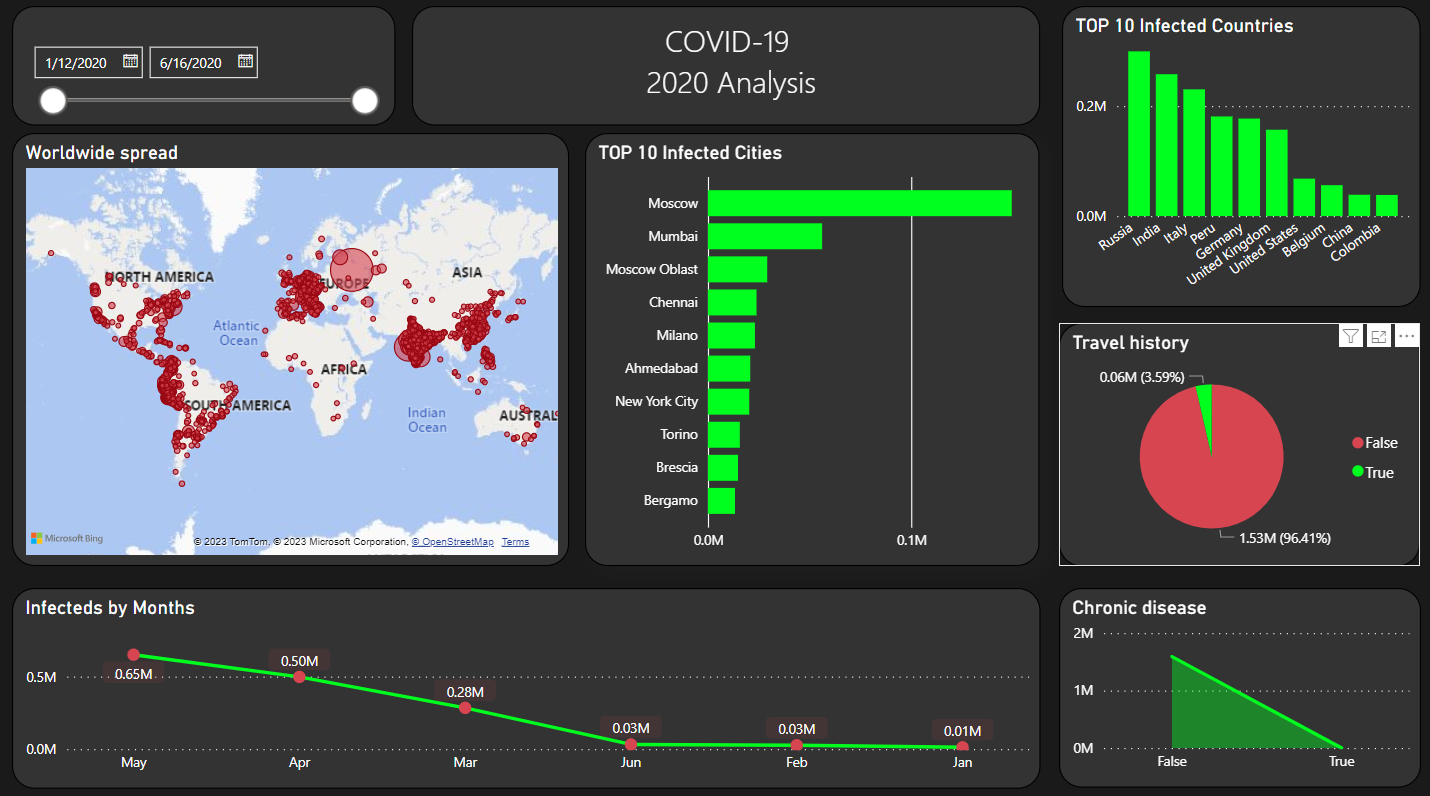

The dashboard page shown, as its layout file describes it:
{"tool":"powerbi","page":{"name":"Dashboard","canvas":[1280,720],"ordinal":0},"visuals":[{"type":"map","title":"Worldwide spread","fields":{"Category":["finaldata.city"],"Size":["finaldata.Measure"]},"box":[16.5,125.4,493.7,383.9],"z":0},{"type":"columnChart","title":"TOP 10 Infected Countries","fields":{"Category":["finaldata.Country"],"Y":["finaldata.TOP 10"]},"box":[947.6,12.6,317.8,267.3],"z":1000},{"type":"lineChart","title":"Infecteds by Months","fields":{"Category":["finaldata.Months"],"Y":["finaldata.Count of Months"]},"box":[16.5,528.7,911.6,177.9],"z":2000},{"type":"slicer","title":"  ","fields":{"Values":["finaldata.date"]},"box":[16.5,12.6,340.2,105.9],"z":3000},{"type":"barChart","title":"TOP 10 Infected Cities","fields":{"Category":["finaldata.city"],"Y":["finaldata.Count Cities"]},"box":[524.8,125.4,403.3,383.9],"z":4000},{"type":"pieChart","title":"Travel history","fields":{"Category":["finaldata.travel_history_binary"],"Y":["CountNonNull(finaldata.travel_history_binary)"]},"box":[945.7,293.5,319.8,215.8],"z":5000},{"type":"areaChart","title":"Chronic disease","fields":{"Category":["finaldata.chronic_disease_binary"],"Y":["CountNonNull(finaldata.chronic_disease_binary)"]},"box":[945.7,528.7,320.7,176.9],"z":6000},{"type":"textbox","box":[371.3,12.6,556.9,105.9],"z":7000}]}

Visuals, with their boxes in screenshot pixels (x1, y1, x2, y2), scaled from the page's 1280x720 canvas onto the 1430x796 screenshot:
"Worldwide spread" map: BBox(18, 139, 570, 563)
"TOP 10 Infected Countries" columnChart: BBox(1059, 14, 1414, 309)
"Infecteds by Months" lineChart: BBox(18, 585, 1037, 781)
"  " slicer: BBox(18, 14, 399, 131)
"TOP 10 Infected Cities" barChart: BBox(586, 139, 1037, 563)
"Travel history" pieChart: BBox(1057, 324, 1414, 563)
"Chronic disease" areaChart: BBox(1057, 585, 1415, 780)
textbox: BBox(415, 14, 1037, 131)
